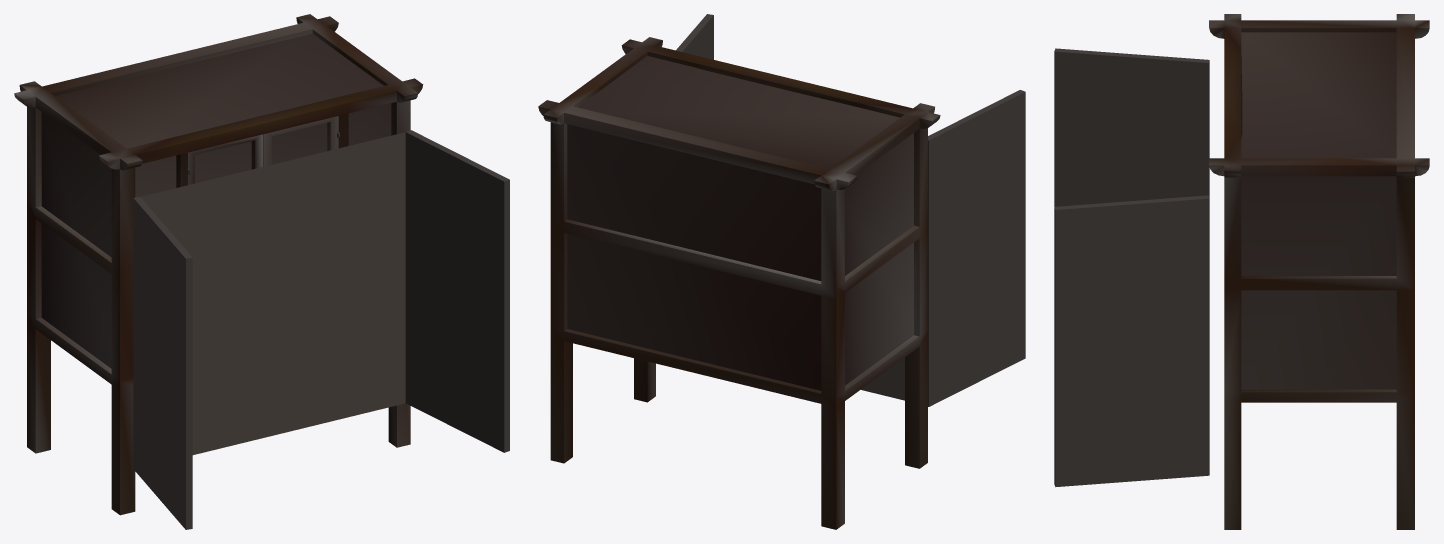
File: opened.glb
3 views of the same model, side by side, from view 1: azimuth 30°, elevation 25°; view 2: azimuth 150°, elevation 25°; view 3: azimuth 270°, elevation 25° (orthographic). The views are drawn at different scales.
Visible parts, largest first — view 1: SM_Pantry_Chest_01_M_Pantry_Chest_01_0, 속면, 문짝 (×2); view 2: SM_Pantry_Chest_01_M_Pantry_Chest_01_0, 문짝 (×2), 속면; view 3: SM_Pantry_Chest_01_M_Pantry_Chest_01_0, 문짝 (×2).
Part boxes in pixels (bbox=[...]): SM_Pantry_Chest_01_M_Pantry_Chest_01_0: bbox=[14, 14, 423, 515]; 속면: bbox=[141, 132, 405, 454]; 문짝 (×2): bbox=[133, 130, 509, 529]; SM_Pantry_Chest_01_M_Pantry_Chest_01_0: bbox=[538, 37, 940, 529]; 문짝 (×2): bbox=[676, 14, 1025, 406]; 속면: bbox=[861, 357, 904, 400]; SM_Pantry_Chest_01_M_Pantry_Chest_01_0: bbox=[1209, 14, 1429, 529]; 문짝 (×2): bbox=[1054, 48, 1209, 487].
Size of the model in its own units: 1.52 by 1.6 by 1.49.
